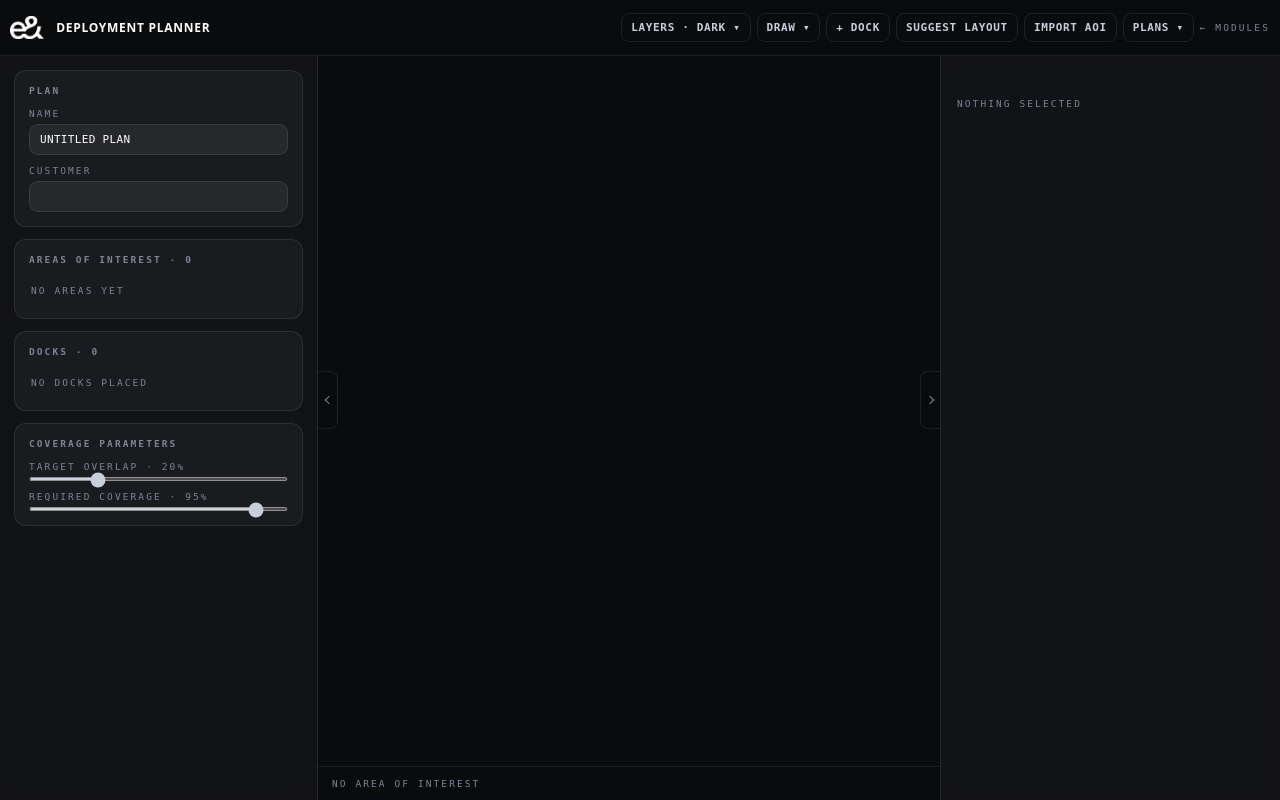
Test: PlannerShell tool-mode mutual exclusion (Minor 6) › standing up a draw mode while dock placement is armed stands placement back down
Click the button "+ DOCK" at (858, 28), box [826,13,890,42]
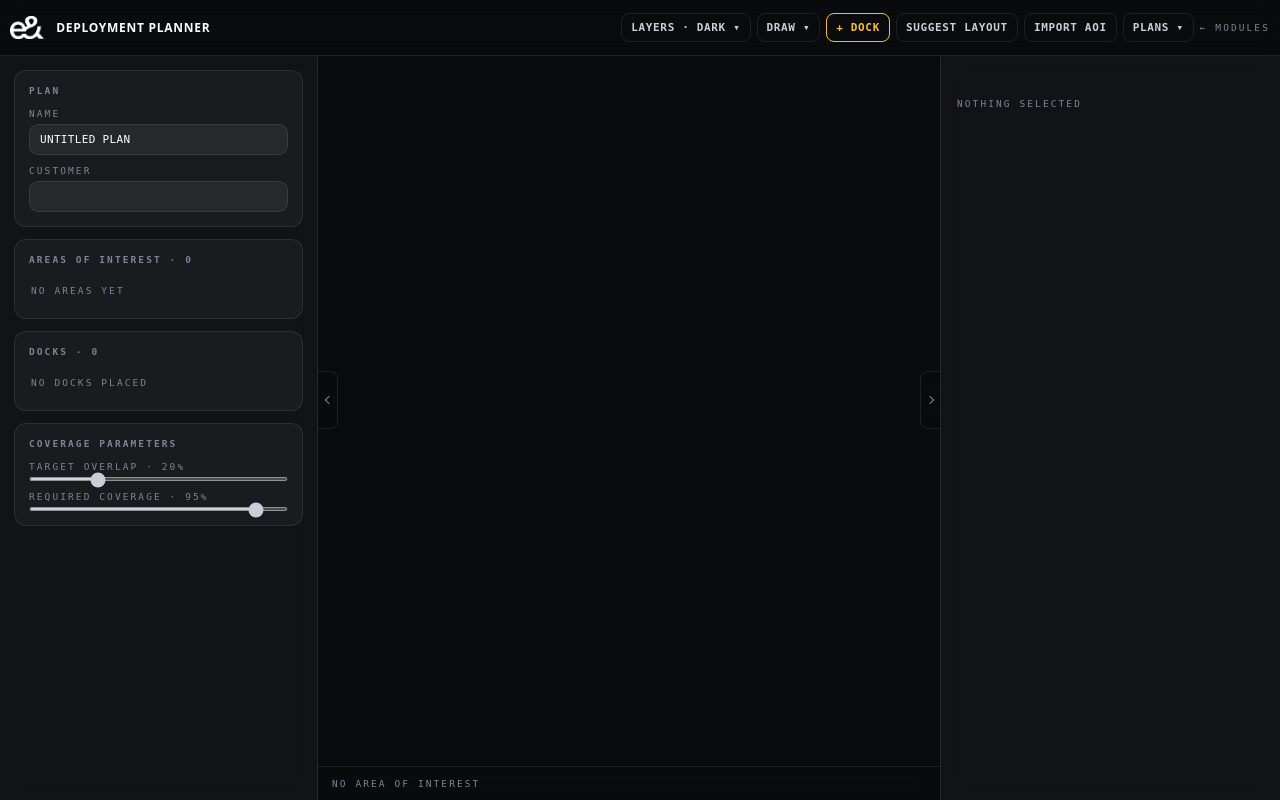
expect the button "+ DOCK" has class "active": met, box [826,13,890,42]
Open the DRAW dropdown and pick POLYGON.
Click the button "DRAW ▾" at (788, 28), box [756,13,820,42]
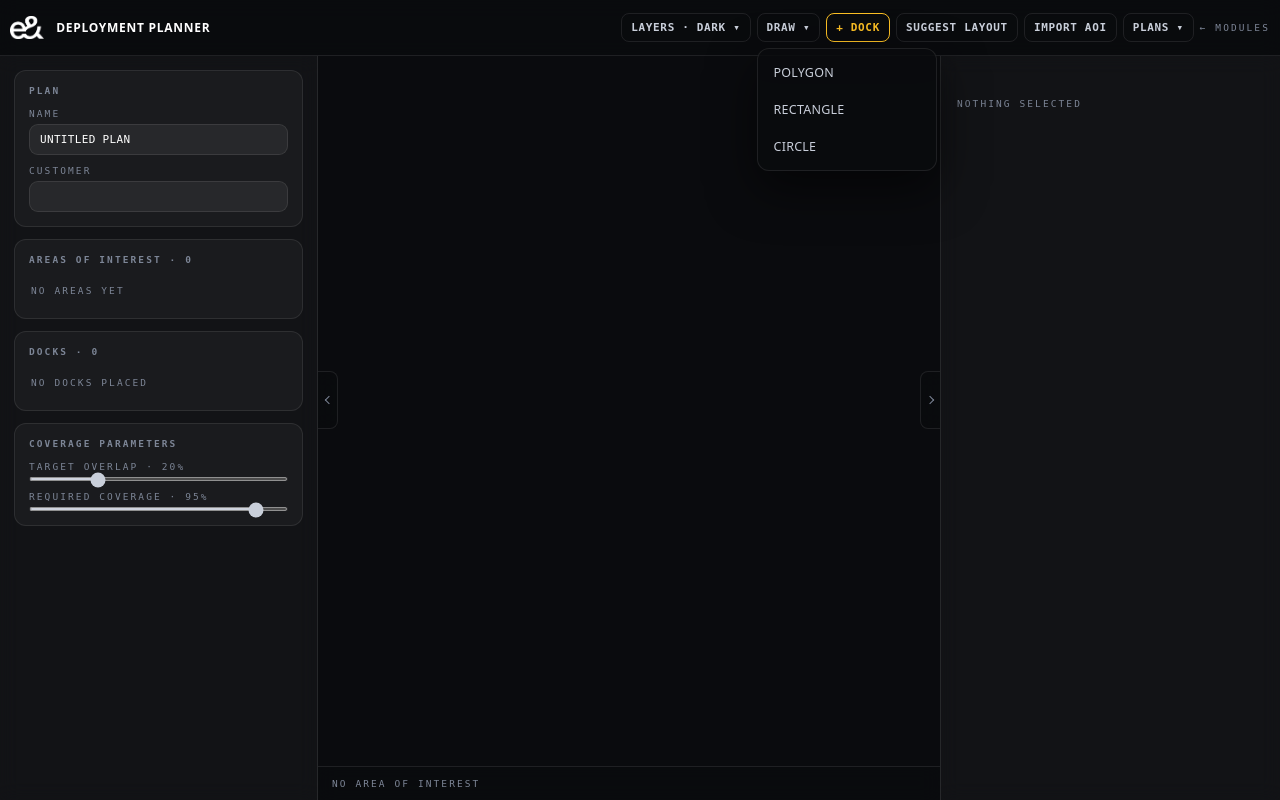
Click the button "POLYGON" at (846, 72), box [764,55,930,90]
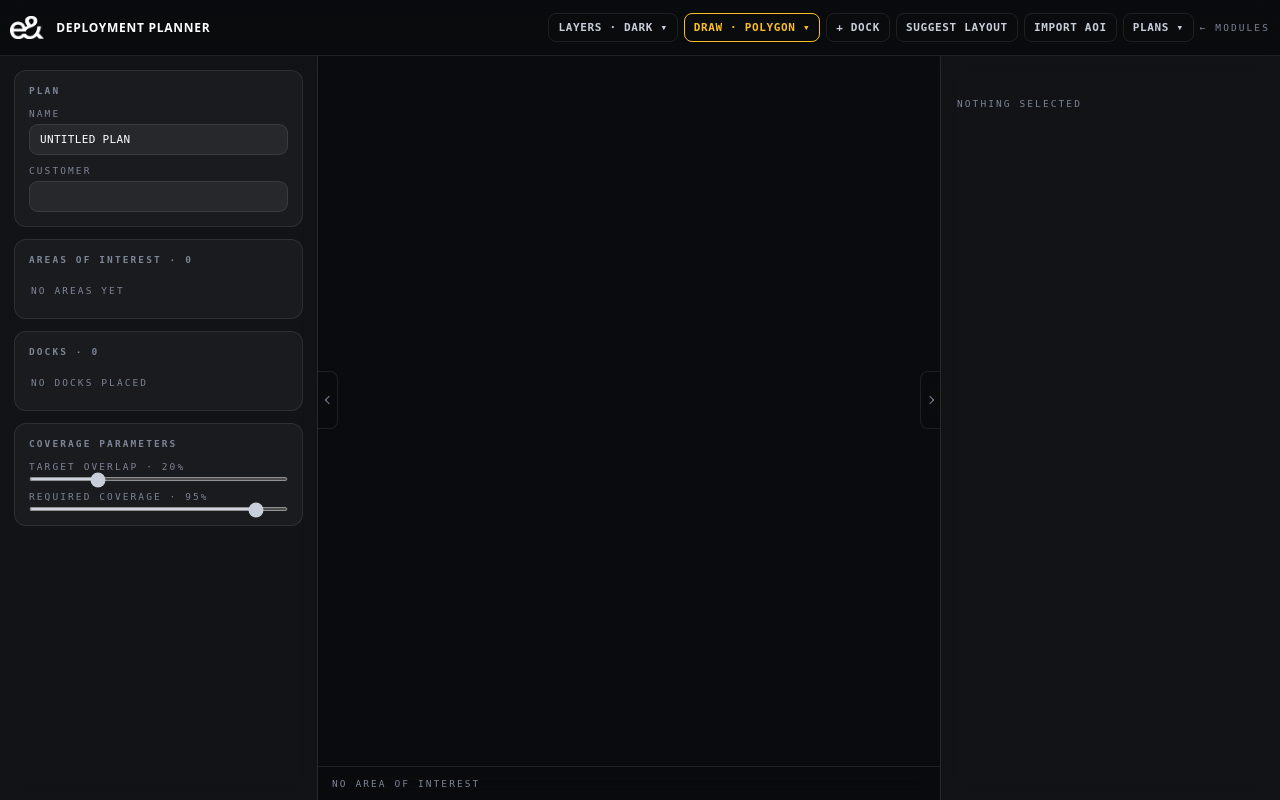
expect the button "DRAW · POLYGON ▾" is shown: met, box [684,13,820,42]
